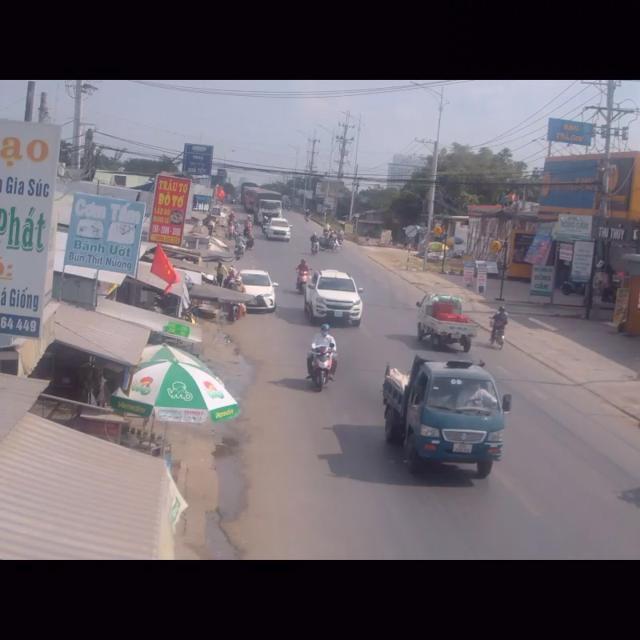car: (308, 266, 367, 328)
motorbike: (306, 323, 336, 392), (491, 304, 507, 349), (297, 259, 309, 294)
truck: (377, 353, 508, 477), (414, 292, 474, 354)
